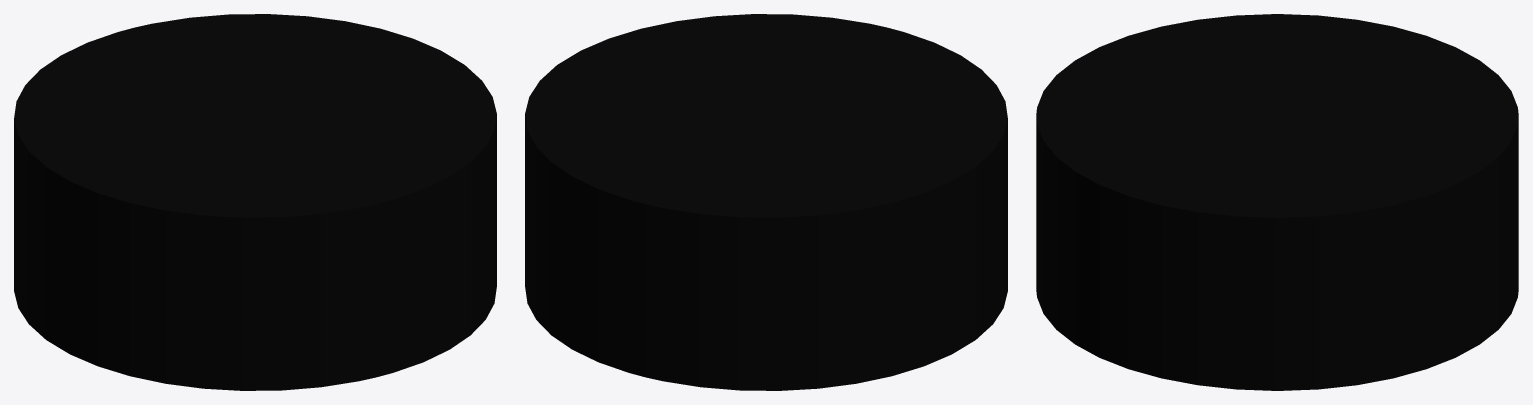
Rendered from wheel_motor_link3.obj.
3 views of the same model, side by side, from view 1: azimuth 30°, elevation 25°; view 2: azimuth 150°, elevation 25°; view 3: azimuth 270°, elevation 25° (orthographic).
Visible parts, largest first — view 1: wheel_motor_link3; view 2: wheel_motor_link3; view 3: wheel_motor_link3.
Part boxes in pixels (x1=…): wheel_motor_link3: x1=14, y1=14, x2=496, y2=390; wheel_motor_link3: x1=525, y1=14, x2=1007, y2=390; wheel_motor_link3: x1=1036, y1=14, x2=1518, y2=390.
Size of the model in its own units: 0.14 by 0.0554 by 0.14.
Materials: 1 (1 with a texture image).
